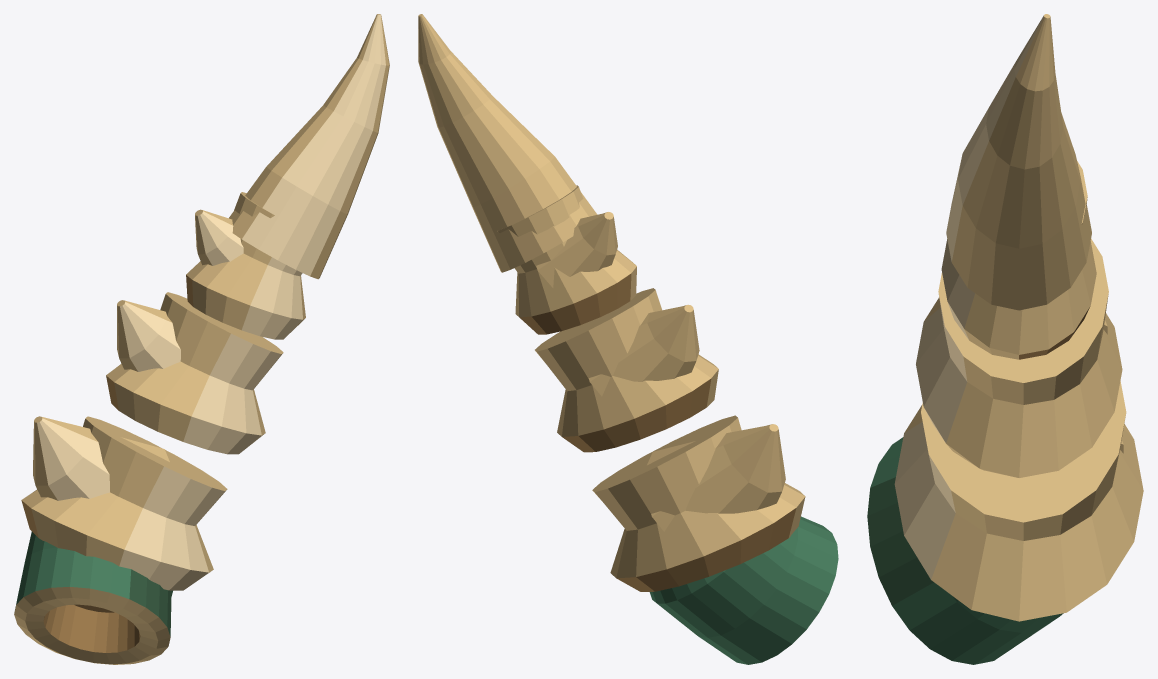
File: Range_Attachment.glb
3 renders of one model, left to right at view 1: azimuth 30°, elevation 25°; view 2: azimuth 150°, elevation 25°; view 3: azimuth 270°, elevation 25°, orthographic. The views are drawn at different scales.
Parts seen in each view (by area): view 1: Range_Attachment; view 2: Range_Attachment; view 3: Range_Attachment.
Part boxes in pixels (x1,y1,x2,y2): Range_Attachment: (14,14,389,664); Range_Attachment: (418,14,838,664); Range_Attachment: (867,14,1143,664).
Size of the model in its own units: 1.19 by 1.67 by 0.4922.
